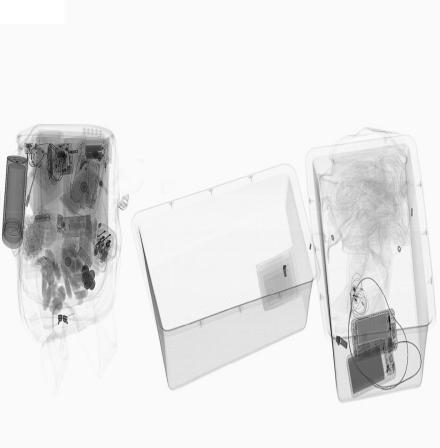Powerbank: (346, 338, 398, 399)
